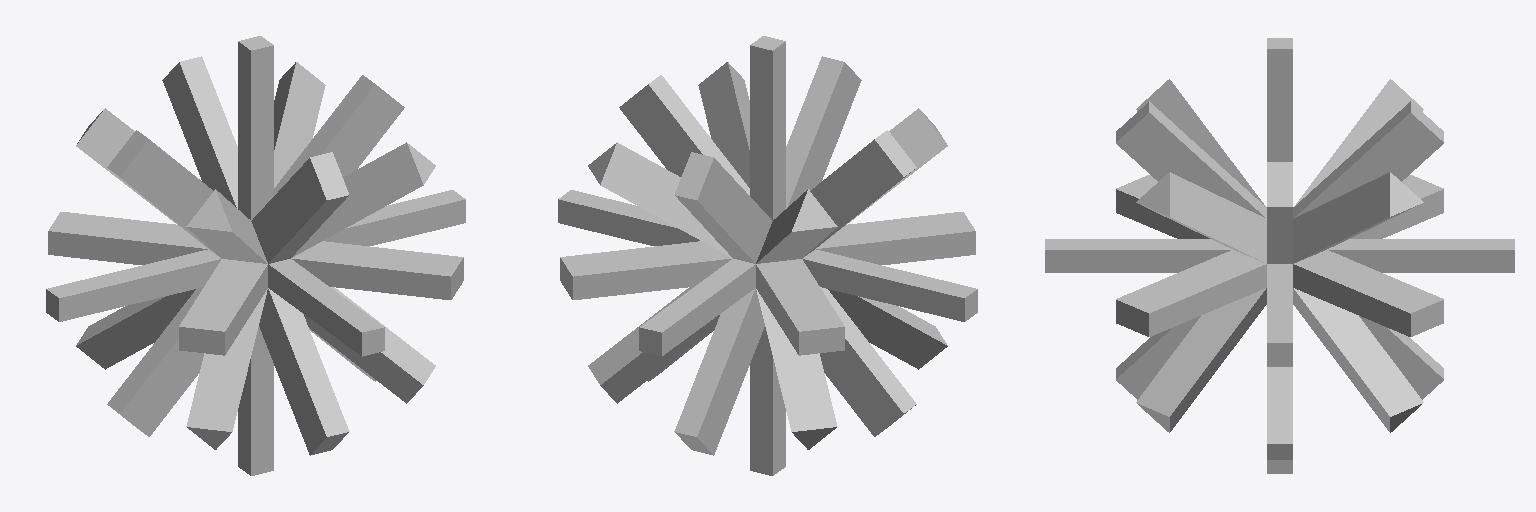
Rendered from idk.obj.
3 views of the same model, side by side, from view 1: azimuth 30°, elevation 25°; view 2: azimuth 150°, elevation 25°; view 3: azimuth 270°, elevation 25° (orthographic).
Parts seen in each view (by area): view 1: Cube; view 2: Cube; view 3: Cube.
Part boxes in pixels (x1,y1,x2,y2): Cube: (46, 36, 465, 475); Cube: (558, 36, 977, 475); Cube: (1045, 38, 1514, 473).
Bounding box in the file's own units: 0.7678 × 0.7678 × 0.7678.